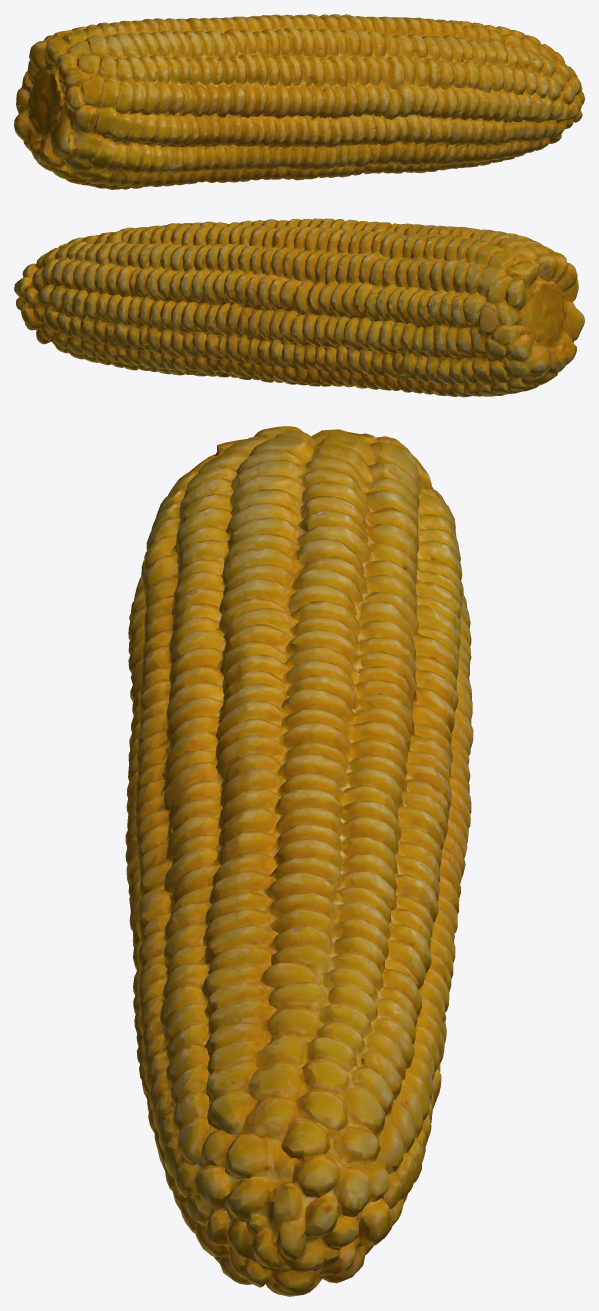
File: YellowVegetableCorn.fbx
3 views of the same model, one above another, from view 1: azimuth 30°, elevation 25°; view 2: azimuth 150°, elevation 25°; view 3: azimuth 270°, elevation 25° (orthographic). The views are drawn at different scales.
Parts seen in each view (by area): view 1: Corn; view 2: Corn; view 3: Corn.
Part boxes in pixels (box(x1,y1,x2,y2)): Corn: box(14, 14, 584, 189); Corn: box(14, 218, 584, 397); Corn: box(125, 426, 473, 1296).
Bounding box in the file's own units: 0.1951 × 0.0539 × 0.0732.
1 material, 1 textured.
